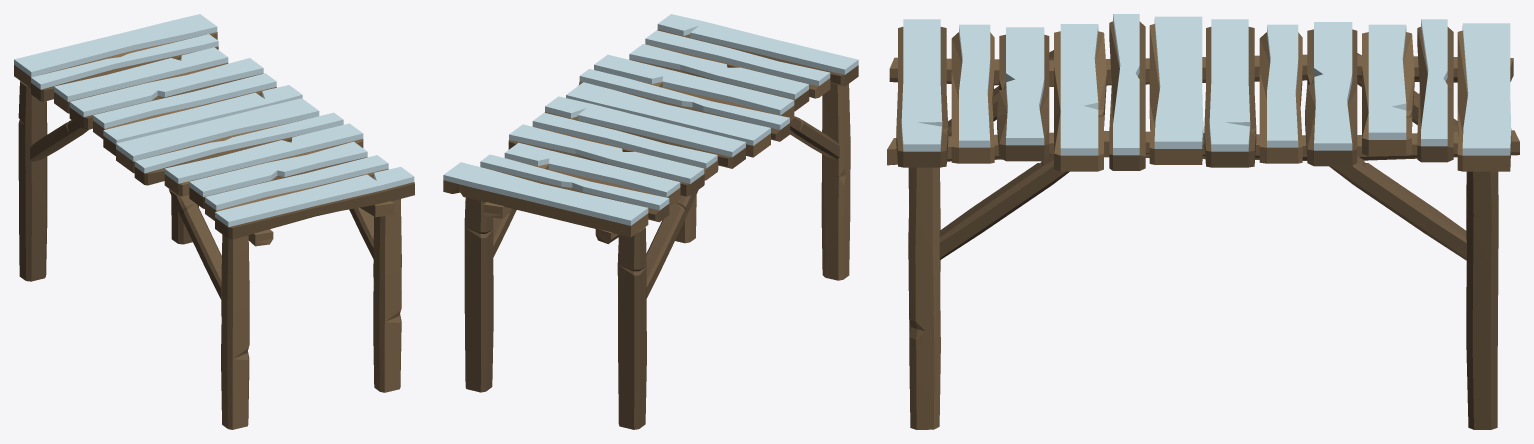
Rendered from Plataforma_Madera01.glb.
3 renders of one model, left to right at view 1: azimuth 30°, elevation 25°; view 2: azimuth 150°, elevation 25°; view 3: azimuth 270°, elevation 25°, orthographic. The views are drawn at different scales.
Parts seen in each view (by area): view 1: SM_Prop_Fence_Platform_01_Snow; view 2: SM_Prop_Fence_Platform_01_Snow; view 3: SM_Prop_Fence_Platform_01_Snow.
Boxes of the visible parts, x1,y1,x2,y2 form: SM_Prop_Fence_Platform_01_Snow: (14, 14, 414, 429); SM_Prop_Fence_Platform_01_Snow: (443, 14, 858, 429); SM_Prop_Fence_Platform_01_Snow: (887, 14, 1519, 429).
Bounding box in the file's own units: 2.33 × 2.35 × 4.63.
Materials: 1 (1 with a texture image).
